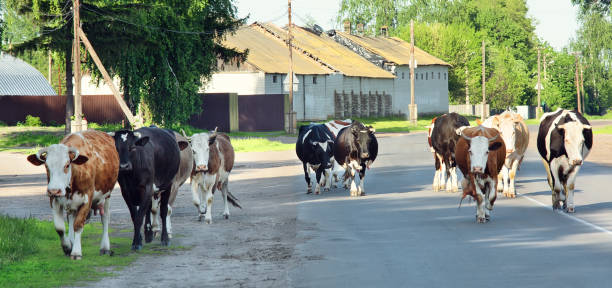inek: (28, 129, 122, 260), (154, 121, 233, 226), (107, 131, 171, 252), (537, 114, 592, 224), (453, 121, 510, 222), (331, 115, 382, 205), (426, 117, 461, 194), (498, 106, 525, 199), (293, 122, 329, 188)
